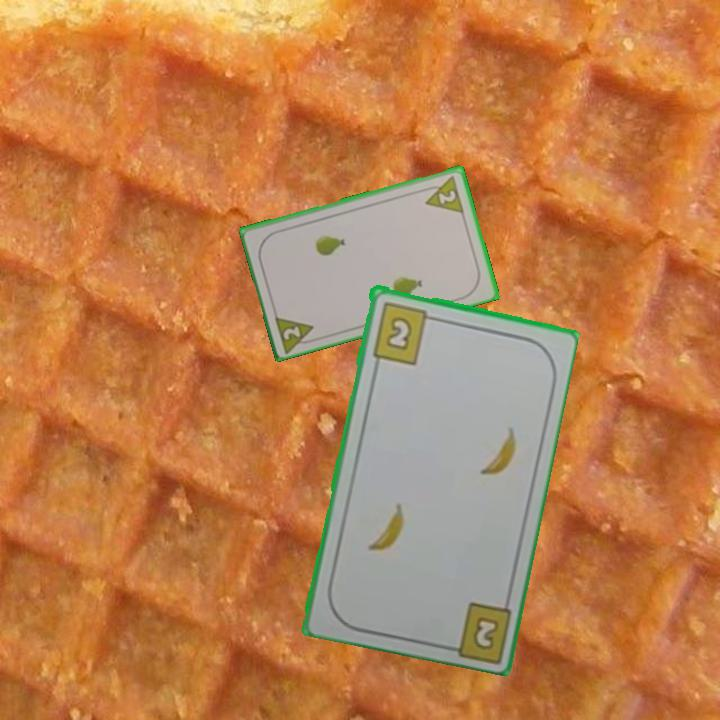2b: (368, 298, 439, 366), (469, 612, 502, 653)
2p: (419, 172, 467, 216), (271, 311, 320, 354)
